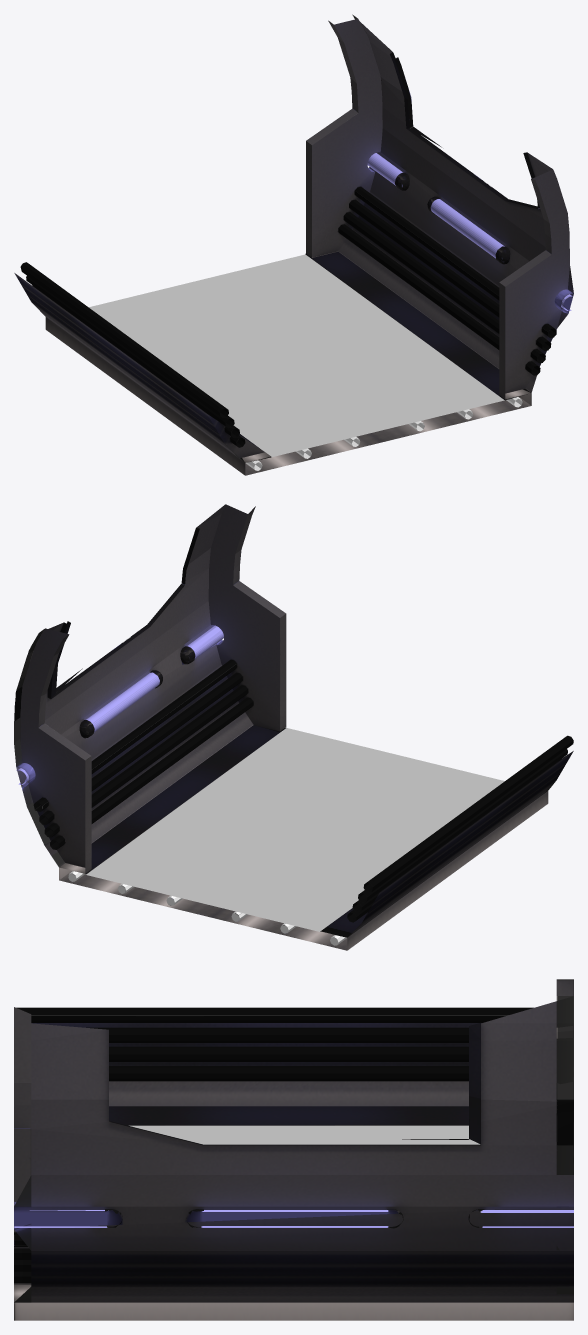
Rendered from Modulo_corridoio_low_poly_destroyed.fbx.
The picture shows the model from 3 angles, top to bottom: view 1: azimuth 30°, elevation 25°; view 2: azimuth 150°, elevation 25°; view 3: azimuth 270°, elevation 25°; orthographic projection. The views are drawn at different scales.
Visible parts, largest first — view 1: Corridoio_001, Pavimento_001; view 2: Corridoio_001, Pavimento_001; view 3: Corridoio_001, Pavimento_001.
Boxes of the visible parts, bbox=[...] form: Corridoio_001: bbox=[14, 14, 573, 475]; Pavimento_001: bbox=[89, 254, 504, 456]; Corridoio_001: bbox=[14, 504, 573, 950]; Pavimento_001: bbox=[86, 728, 504, 931]; Corridoio_001: bbox=[14, 979, 573, 1320]; Pavimento_001: bbox=[129, 1125, 480, 1144].
Size of the model in its own units: 6.79 by 4.31 by 6.46.
